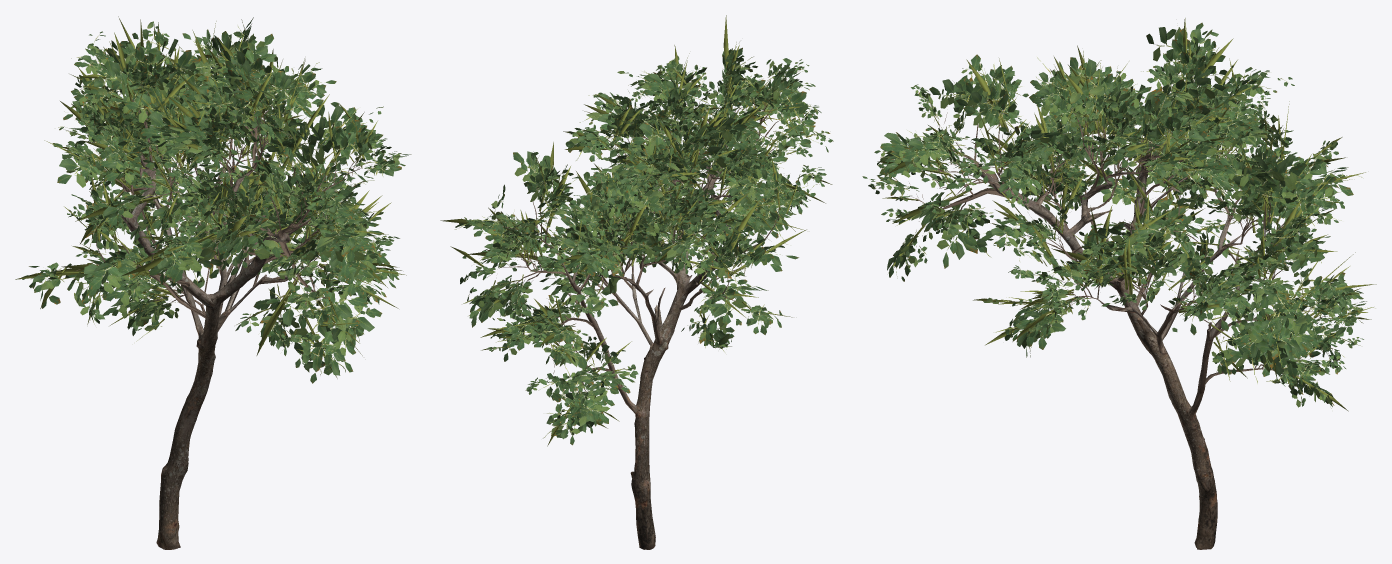
File: tree_small_02.glb
3 views of the same model, side by side, from view 1: azimuth 30°, elevation 25°; view 2: azimuth 150°, elevation 25°; view 3: azimuth 270°, elevation 25° (orthographic). The views are drawn at different scales.
Visible parts, largest first — view 1: broadleaf_a_LOD0_leaves, broadleaf_a_LOD1_leaves, broadleaf_a_LOD2_leaves, broadleaf_a_LOD0_trunk, broadleaf_a_LOD2_trunk, broadleaf_a_LOD1_trunk, broadleaf_a_LOD0_branches, broadleaf_a_LOD1_branches, broadleaf_a_LOD2_branches; view 2: broadleaf_a_LOD0_leaves, broadleaf_a_LOD1_leaves, broadleaf_a_LOD2_leaves, broadleaf_a_LOD0_trunk, broadleaf_a_LOD2_trunk, broadleaf_a_LOD1_trunk, broadleaf_a_LOD0_branches, broadleaf_a_LOD1_branches, broadleaf_a_LOD2_branches; view 3: broadleaf_a_LOD0_leaves, broadleaf_a_LOD1_leaves, broadleaf_a_LOD2_leaves, broadleaf_a_LOD0_trunk, broadleaf_a_LOD1_trunk, broadleaf_a_LOD0_branches, broadleaf_a_LOD2_trunk, broadleaf_a_LOD1_branches, broadleaf_a_LOD2_branches.
Boxes of the visible parts, bbox=[...] form: broadleaf_a_LOD0_leaves: bbox=[15, 19, 411, 383]; broadleaf_a_LOD1_leaves: bbox=[22, 16, 395, 375]; broadleaf_a_LOD2_leaves: bbox=[44, 30, 401, 375]; broadleaf_a_LOD0_trunk: bbox=[121, 155, 310, 549]; broadleaf_a_LOD2_trunk: bbox=[121, 162, 292, 546]; broadleaf_a_LOD1_trunk: bbox=[124, 153, 293, 549]; broadleaf_a_LOD0_branches: bbox=[74, 72, 376, 335]; broadleaf_a_LOD1_branches: bbox=[92, 97, 359, 318]; broadleaf_a_LOD2_branches: bbox=[97, 101, 339, 316]; broadleaf_a_LOD0_leaves: bbox=[440, 42, 832, 446]; broadleaf_a_LOD1_leaves: bbox=[469, 15, 833, 427]; broadleaf_a_LOD2_leaves: bbox=[450, 53, 828, 438]; broadleaf_a_LOD0_trunk: bbox=[556, 156, 743, 549]; broadleaf_a_LOD2_trunk: bbox=[569, 166, 730, 549]; broadleaf_a_LOD1_trunk: bbox=[565, 157, 730, 549]; broadleaf_a_LOD0_branches: bbox=[498, 81, 794, 392]; broadleaf_a_LOD1_branches: bbox=[507, 102, 774, 377]; broadleaf_a_LOD2_branches: bbox=[521, 103, 772, 369]; broadleaf_a_LOD0_leaves: bbox=[868, 18, 1376, 411]; broadleaf_a_LOD1_leaves: bbox=[862, 27, 1375, 400]; broadleaf_a_LOD2_leaves: bbox=[875, 28, 1366, 407]; broadleaf_a_LOD0_trunk: bbox=[981, 134, 1248, 549]; broadleaf_a_LOD1_trunk: bbox=[983, 140, 1245, 549]; broadleaf_a_LOD0_branches: bbox=[909, 76, 1341, 384]; broadleaf_a_LOD2_trunk: bbox=[989, 135, 1239, 547]; broadleaf_a_LOD1_branches: bbox=[923, 116, 1329, 383]; broadleaf_a_LOD2_branches: bbox=[937, 123, 1311, 382].
Bounding box in the file's own units: 3.17 × 4.75 × 4.41.
3 materials, 3 textured.
